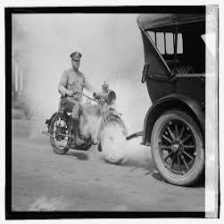smoke: (103, 126, 129, 154)
